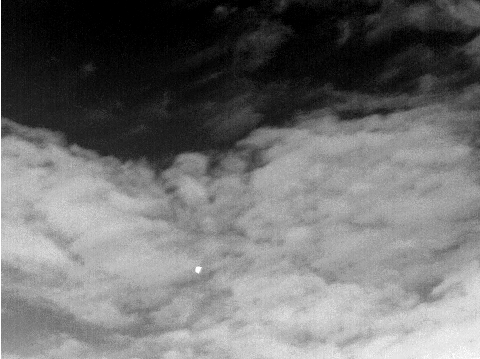dim target: (193, 264, 203, 275)
